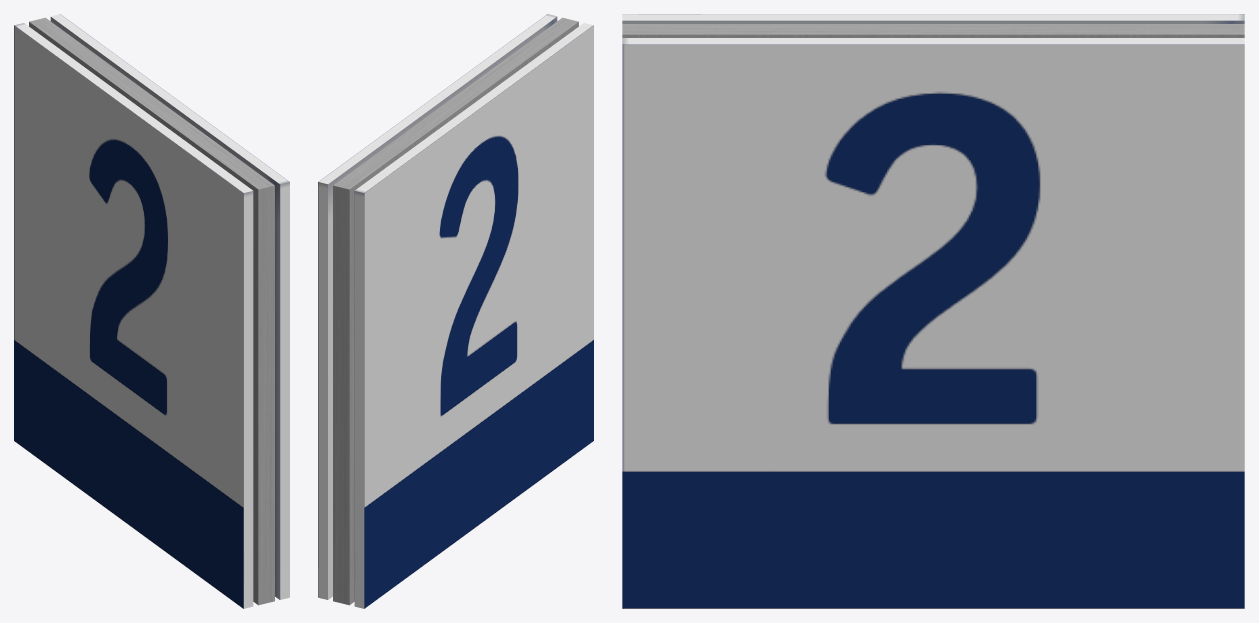
The model's file is scotrail_platform_2.obj.
3 views of the same model, side by side, from view 1: azimuth 30°, elevation 25°; view 2: azimuth 150°, elevation 25°; view 3: azimuth 270°, elevation 25° (orthographic). The views are drawn at different scales.
Visible parts, largest first — view 1: cube; view 2: cube; view 3: cube.
Boxes of the visible parts, x1,y1,x2,y2 form: cube: [14, 14, 289, 608]; cube: [318, 14, 593, 608]; cube: [622, 14, 1244, 608].
Size of the model in its own units: 0.0438 by 0.375 by 0.375.
